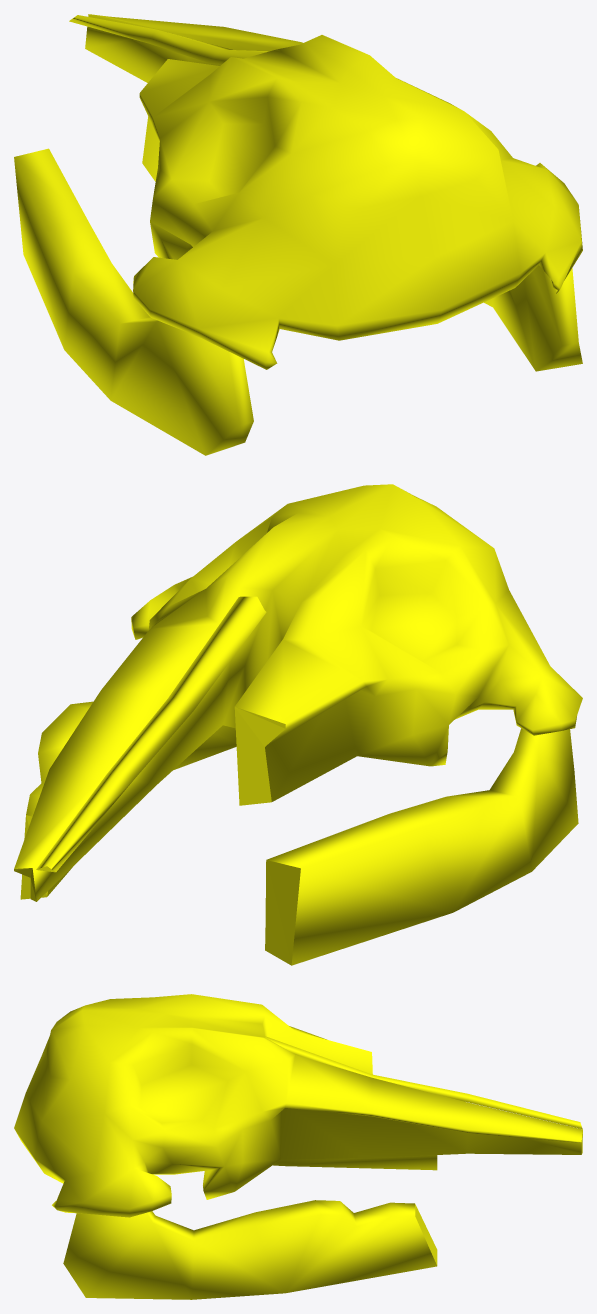
File: bone_whale_head01.glb
The picture shows the model from 3 angles, top to bottom: view 1: azimuth 30°, elevation 25°; view 2: azimuth 150°, elevation 25°; view 3: azimuth 270°, elevation 25°; orthographic projection. The views are drawn at different scales.
Parts seen in each view (by area): view 1: whale_bone_head01; view 2: whale_bone_head01; view 3: whale_bone_head01.
Boxes of the visible parts, box(x1,y1,x2,y2) form: whale_bone_head01: box(14, 14, 582, 455); whale_bone_head01: box(14, 484, 582, 965); whale_bone_head01: box(14, 994, 582, 1299).
Bounding box in the file's own units: 6.93 × 4.48 × 10.57.
Materials: 1 (1 with a texture image).
